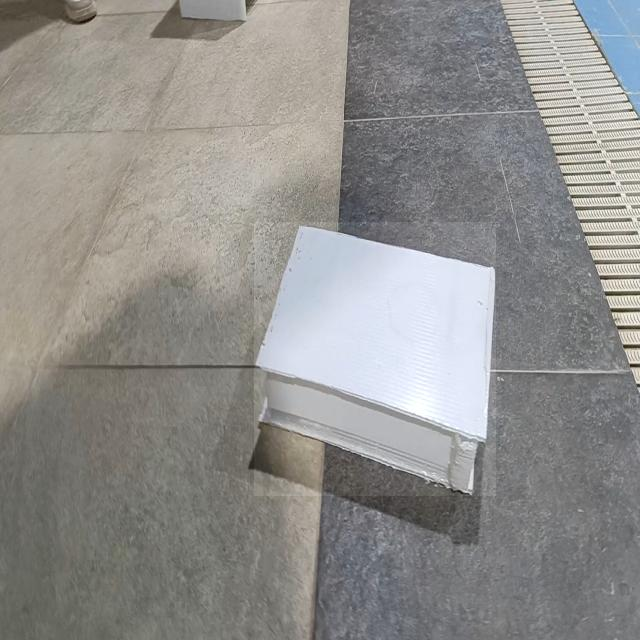Cuboid: (254, 222, 496, 496)
